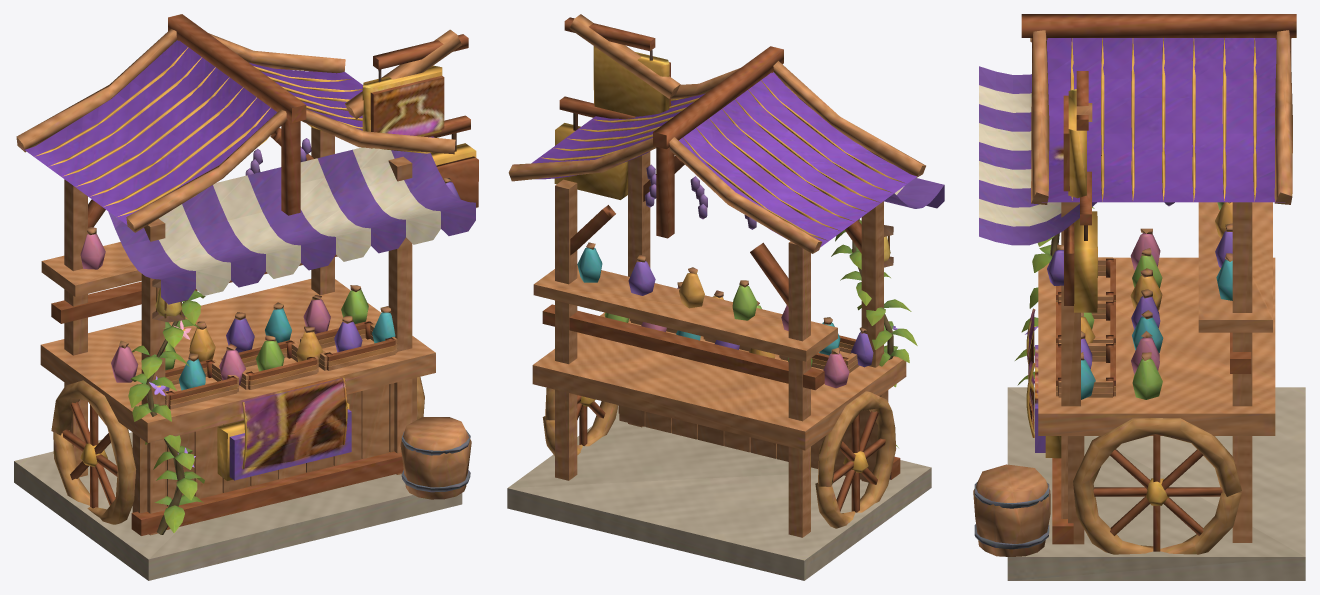
The model's file is stall_potions.glb.
The picture shows the model from 3 angles, left to right: view 1: azimuth 30°, elevation 25°; view 2: azimuth 150°, elevation 25°; view 3: azimuth 270°, elevation 25°; orthographic projection. The views are drawn at different scales.
Visible parts, largest first — view 1: Body; view 2: Body; view 3: Body.
Part boxes in pixels (x1,y1,x2,y2): Body: (14,14,478,580); Body: (507,14,944,580); Body: (973,14,1305,580).
Bounding box in the file's own units: 2.83 × 3.27 × 2.02.
Materials: 1 (1 with a texture image).
